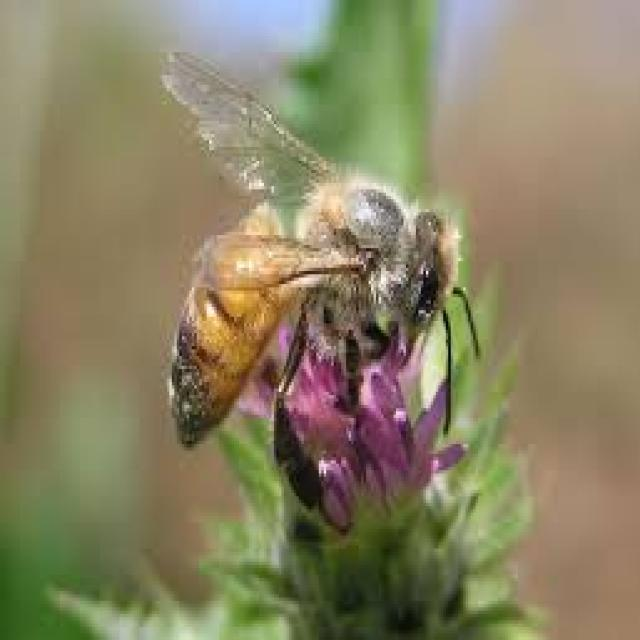Bees: (156, 44, 487, 472)
